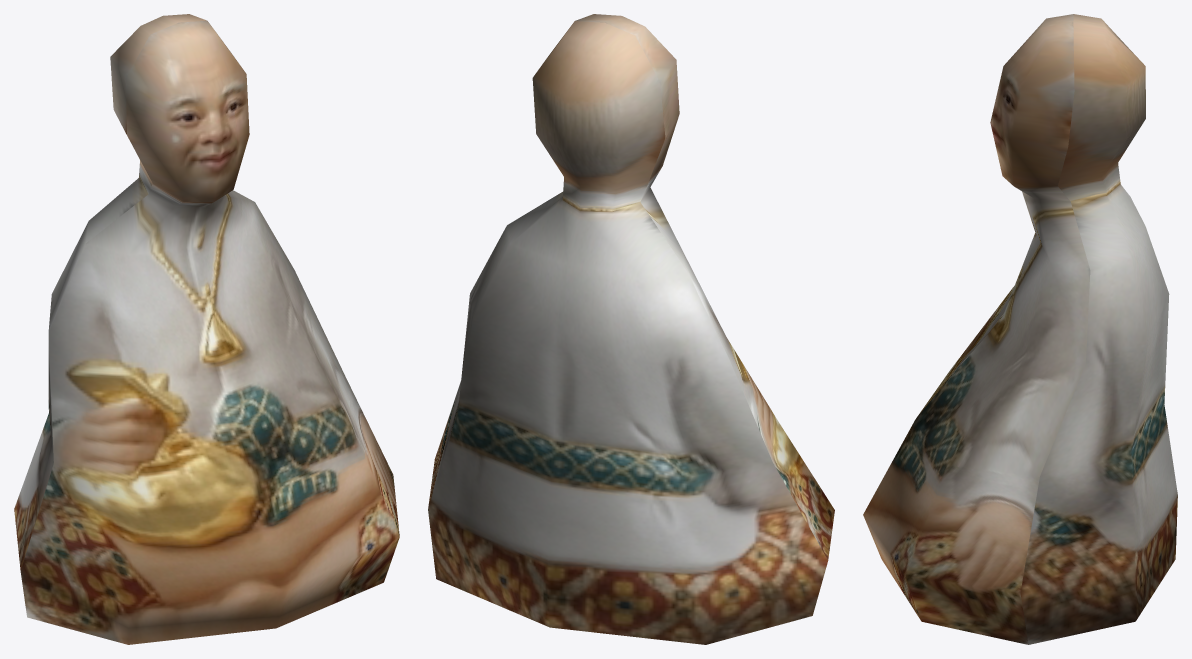
File: PapaDoll.fbx
3 views of the same model, side by side, from view 1: azimuth 30°, elevation 25°; view 2: azimuth 150°, elevation 25°; view 3: azimuth 270°, elevation 25° (orthographic). The views are drawn at different scales.
Parts seen in each view (by area): view 1: PapaDoll; view 2: PapaDoll; view 3: PapaDoll.
Part boxes in pixels (x1,y1,x2,y2): PapaDoll: [14, 14, 399, 644]; PapaDoll: [428, 14, 834, 644]; PapaDoll: [863, 14, 1177, 644].
Bounding box in the file's own units: 6.07 × 8.34 × 4.44.
Materials: 1 (1 with a texture image).
